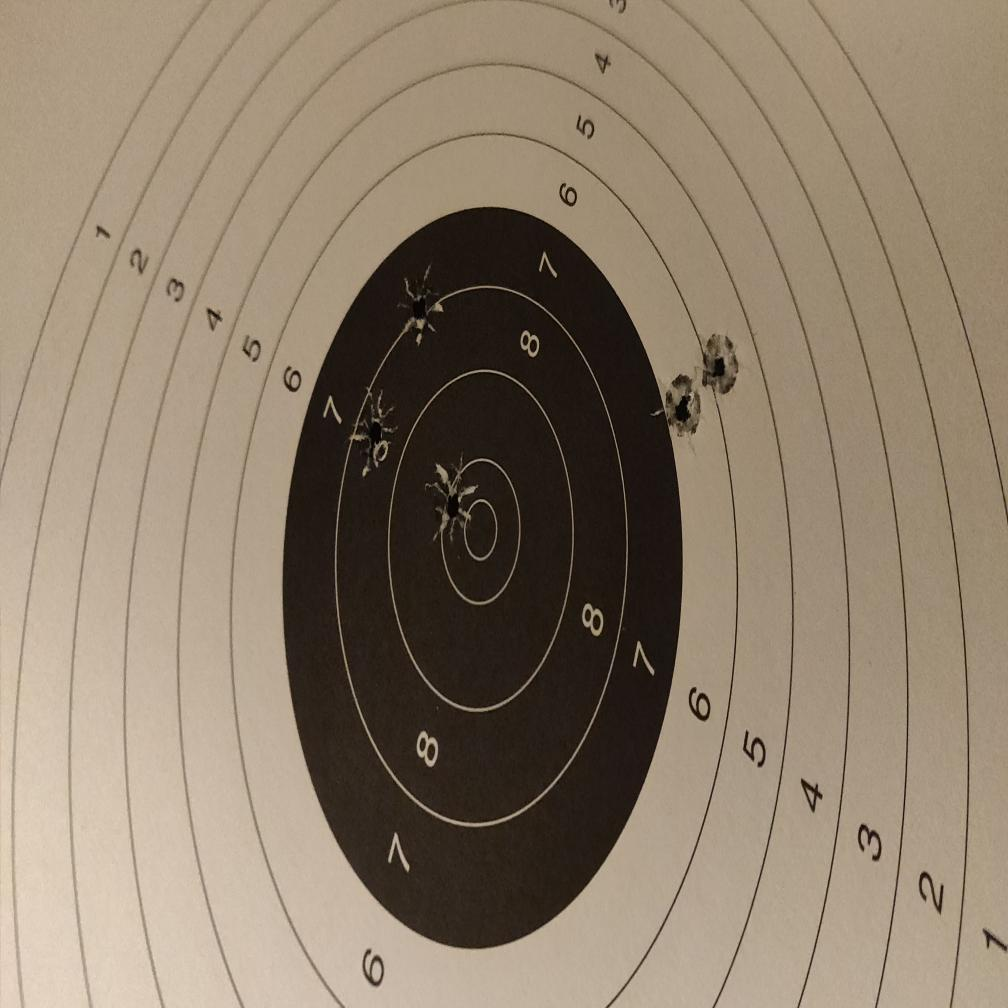10: (433, 454, 475, 542)
6: (702, 322, 740, 402)
7: (662, 371, 706, 448)
8: (400, 267, 442, 339), (358, 397, 392, 471)
Target: (1, 1, 1006, 1006)
black_contour: (280, 203, 683, 950)
